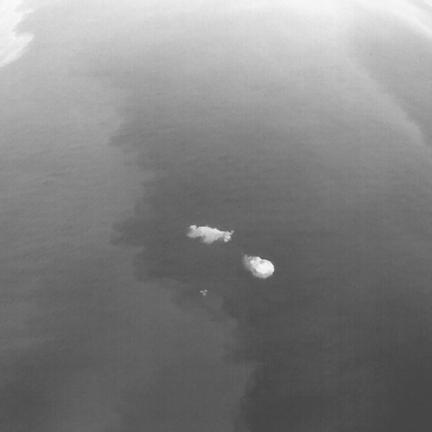flukeprints: (187, 225, 234, 244), (245, 256, 274, 278)
